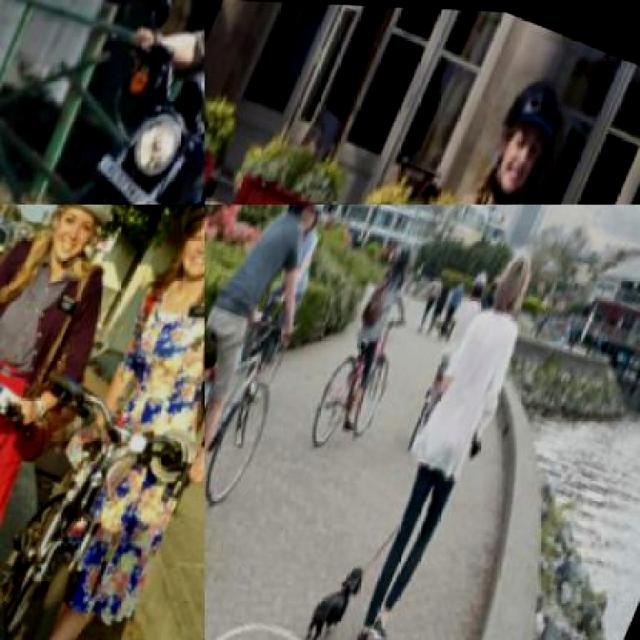With Helmet: (472, 57, 582, 203), (44, 204, 134, 238), (390, 231, 419, 275), (278, 205, 329, 228)
